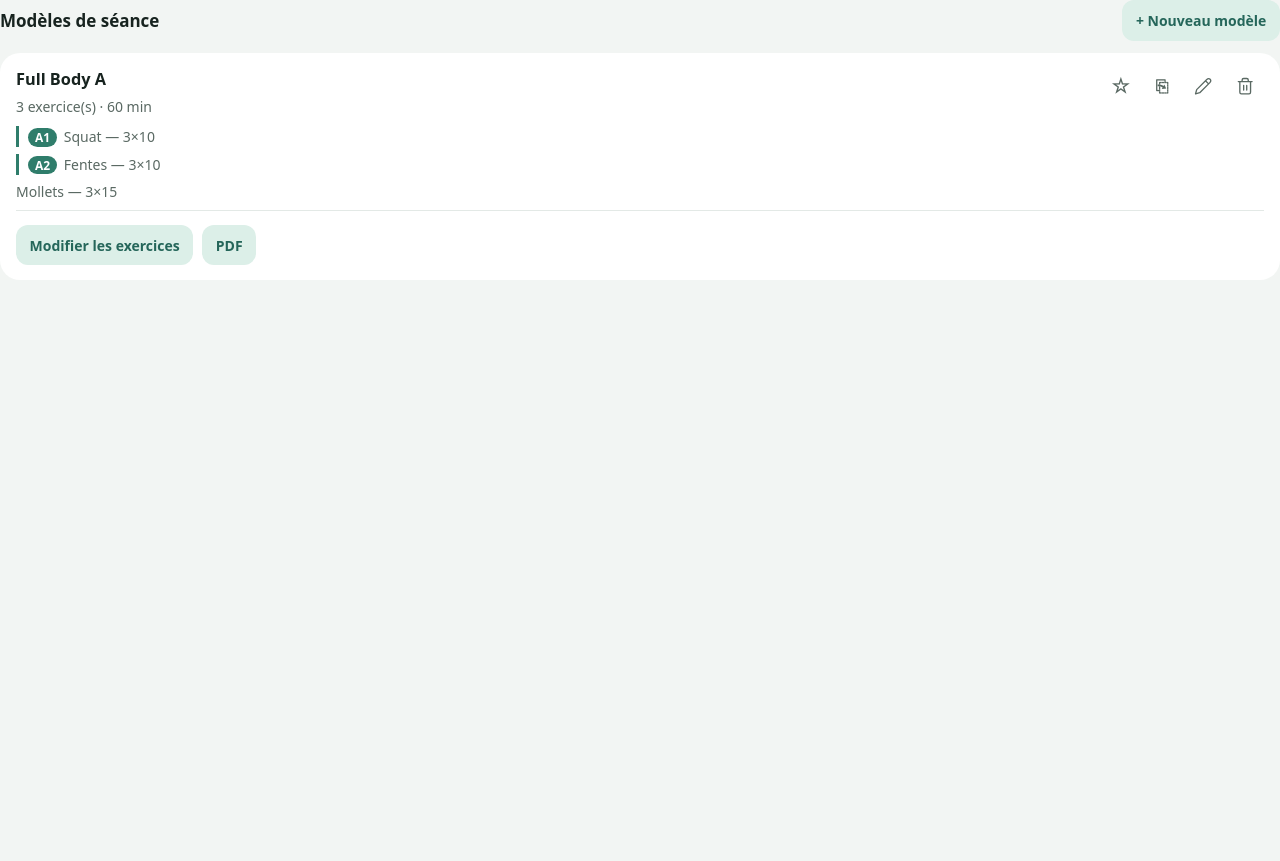
Modeles.tsx - Gestion des supersets dans l'éditeur › retirer le dernier exercice d'un superset réinitialise lie_suivant sur le précédent
The width and height of the screenshot is (1280, 861).
Click the button named "Modifier Full Body A" at (1204, 86), box [1185, 67, 1222, 105]
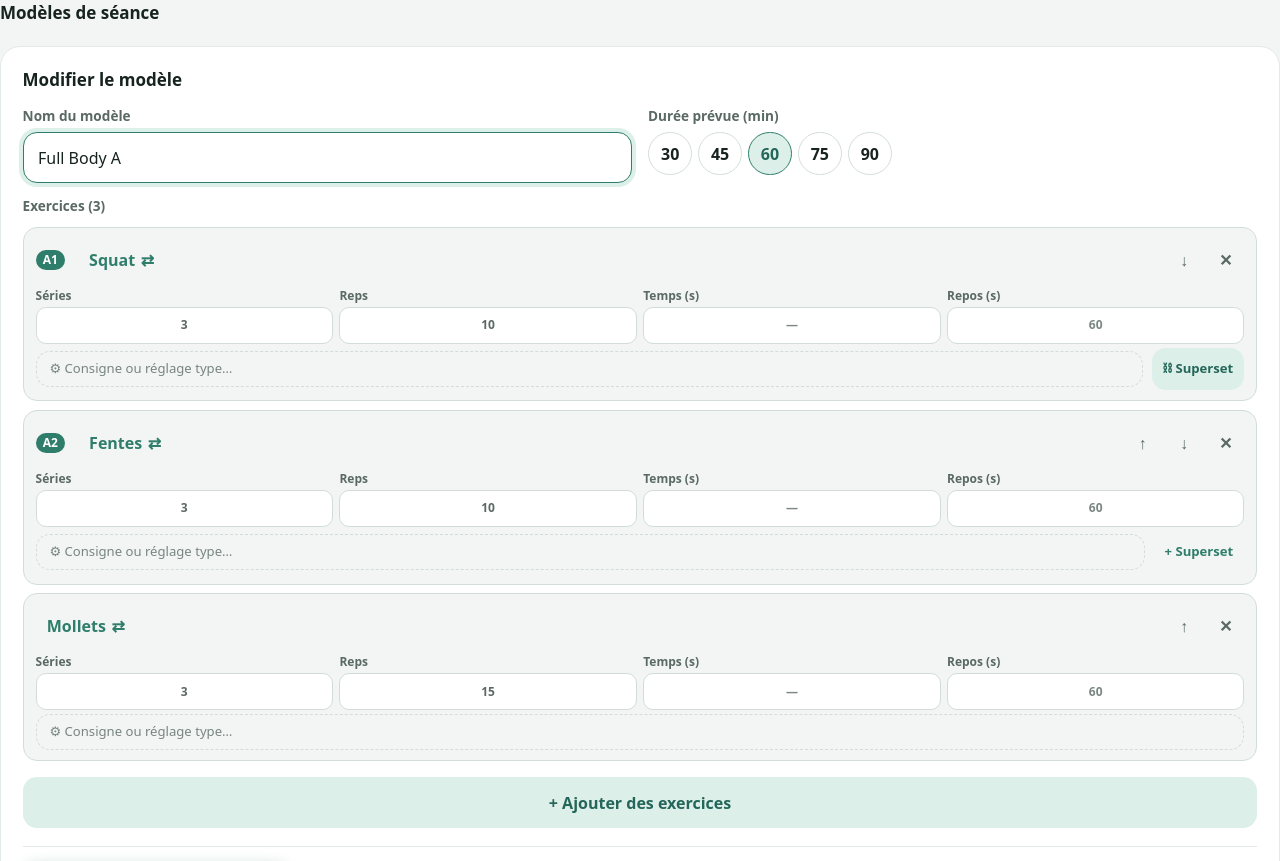
Expected: the text "A1" is shown, [36, 250, 65, 270]
Expected: the text "A2" is shown, [36, 433, 65, 453]
Expected: the button "⛓ Superset" is shown, [1152, 348, 1244, 390]
Click the button named "Retirer Fentes" at (1226, 443), box [1207, 424, 1244, 462]
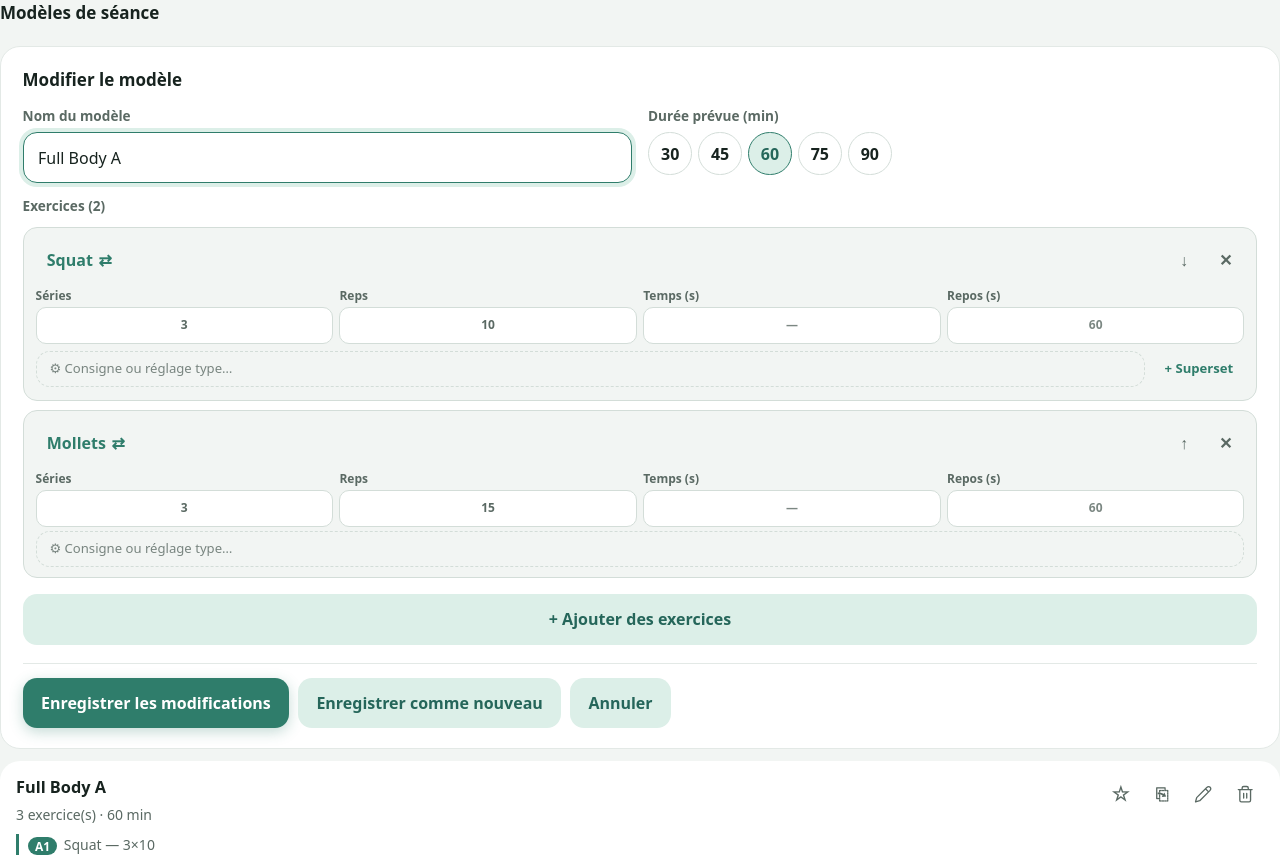
Expected: the button "⛓ Superset" is gone
Expected: the button "+ Superset" is shown, [1153, 348, 1244, 390]
